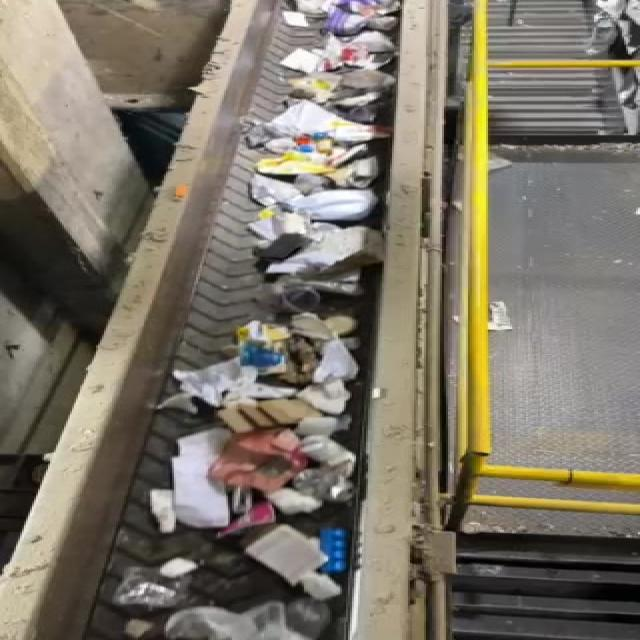paper: (140, 427, 237, 540), (252, 518, 326, 592)
pp: (210, 428, 310, 502), (115, 551, 196, 620), (316, 522, 374, 579)
